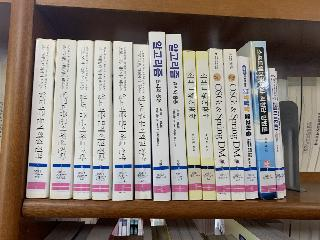book-spine: (26, 38, 55, 199), (50, 38, 77, 200), (250, 40, 277, 199), (165, 33, 189, 200), (148, 30, 170, 201), (209, 47, 231, 201), (223, 48, 245, 201), (112, 41, 133, 201), (236, 55, 259, 199), (73, 40, 93, 200), (182, 50, 202, 200), (196, 50, 216, 200), (133, 44, 151, 199), (92, 40, 109, 200), (269, 68, 284, 199), (275, 71, 286, 196)
